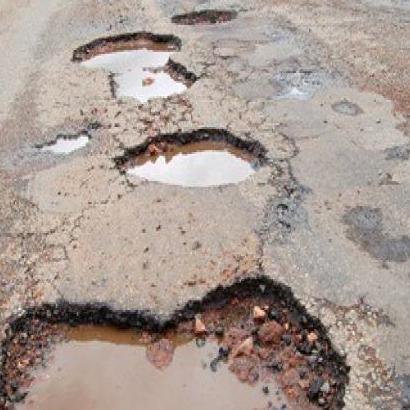pothole: (0, 267, 349, 410), (113, 121, 285, 192), (72, 25, 199, 108), (41, 122, 95, 156), (173, 10, 240, 33)
